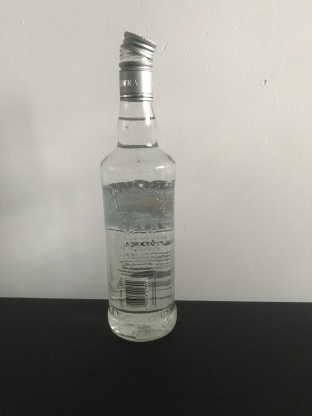nakretka: (117, 27, 157, 102)
